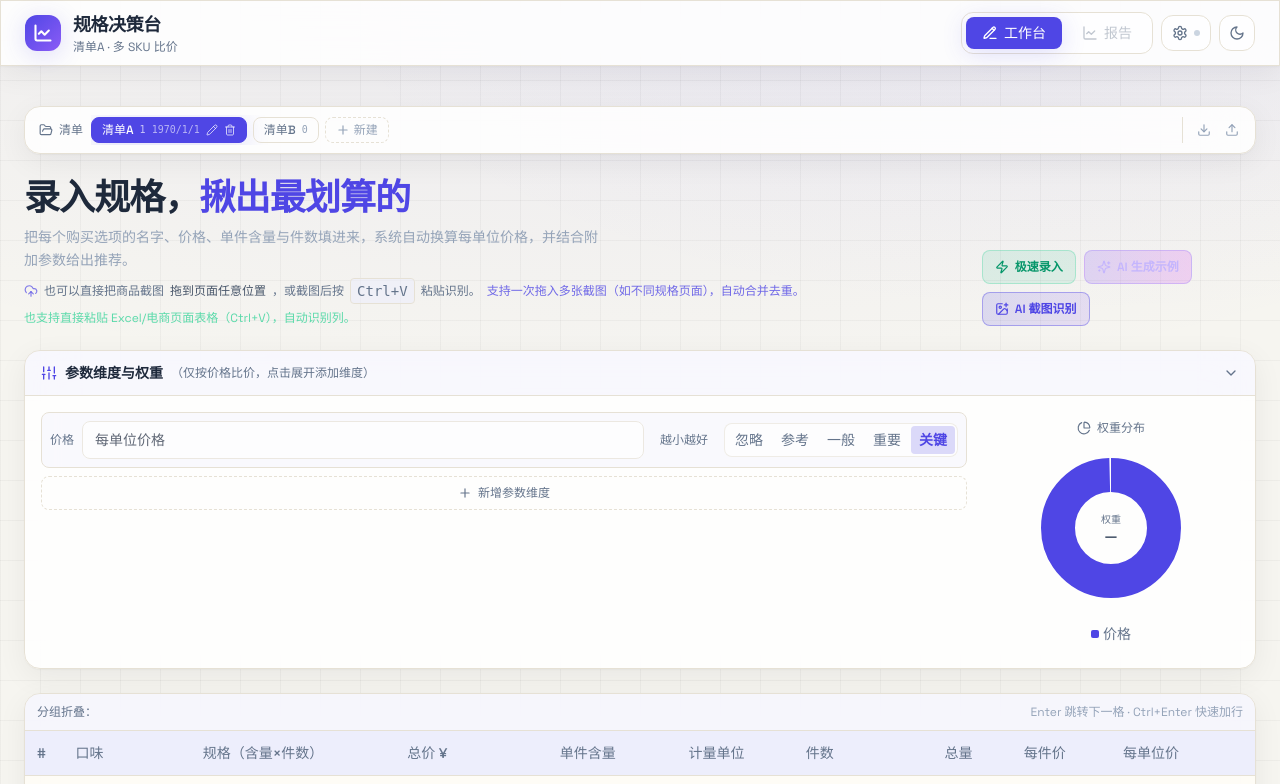
Test: App 撤销 / 重做历史（F4） › 删除清单也能用 Ctrl/Cmd+Z 整份回退找回（与撤销条并存）
Click the button named "删除清单" at (230,130), box [224,124,236,136]
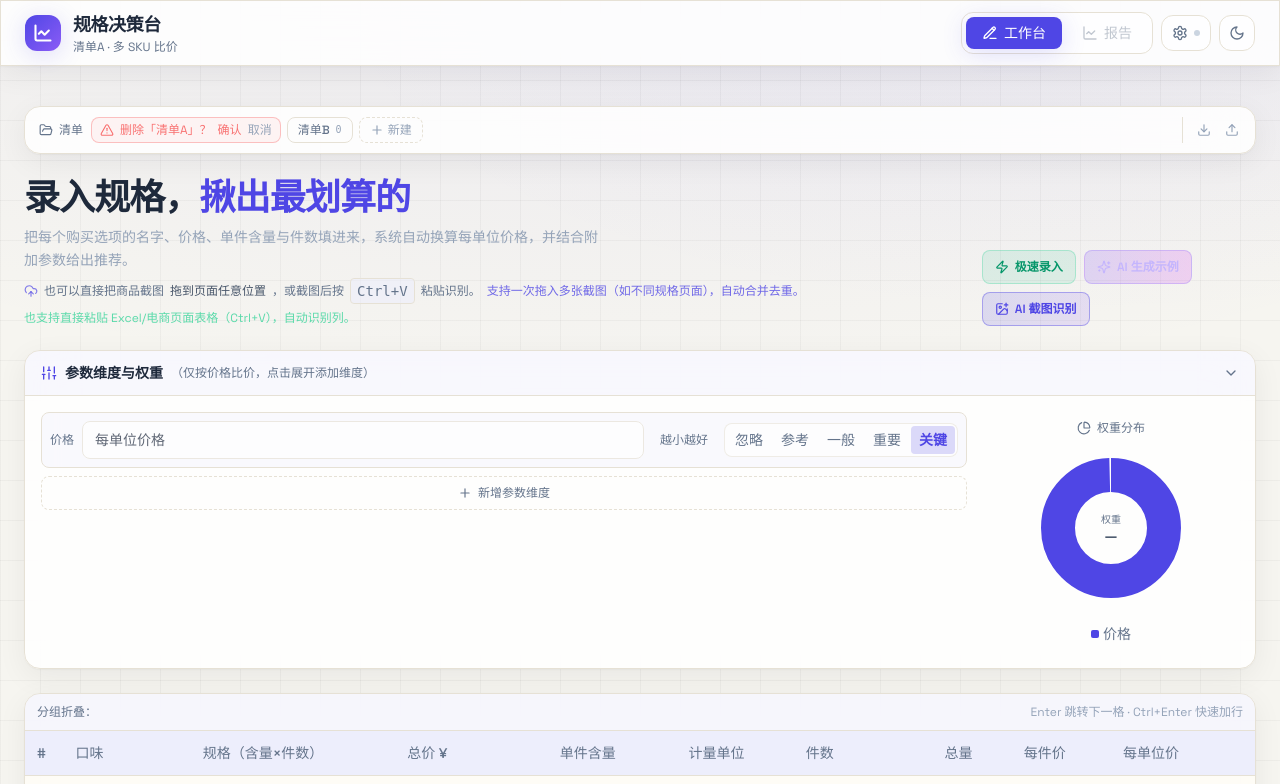
Click the button "确认" at (230,130), box [218,122,242,138]
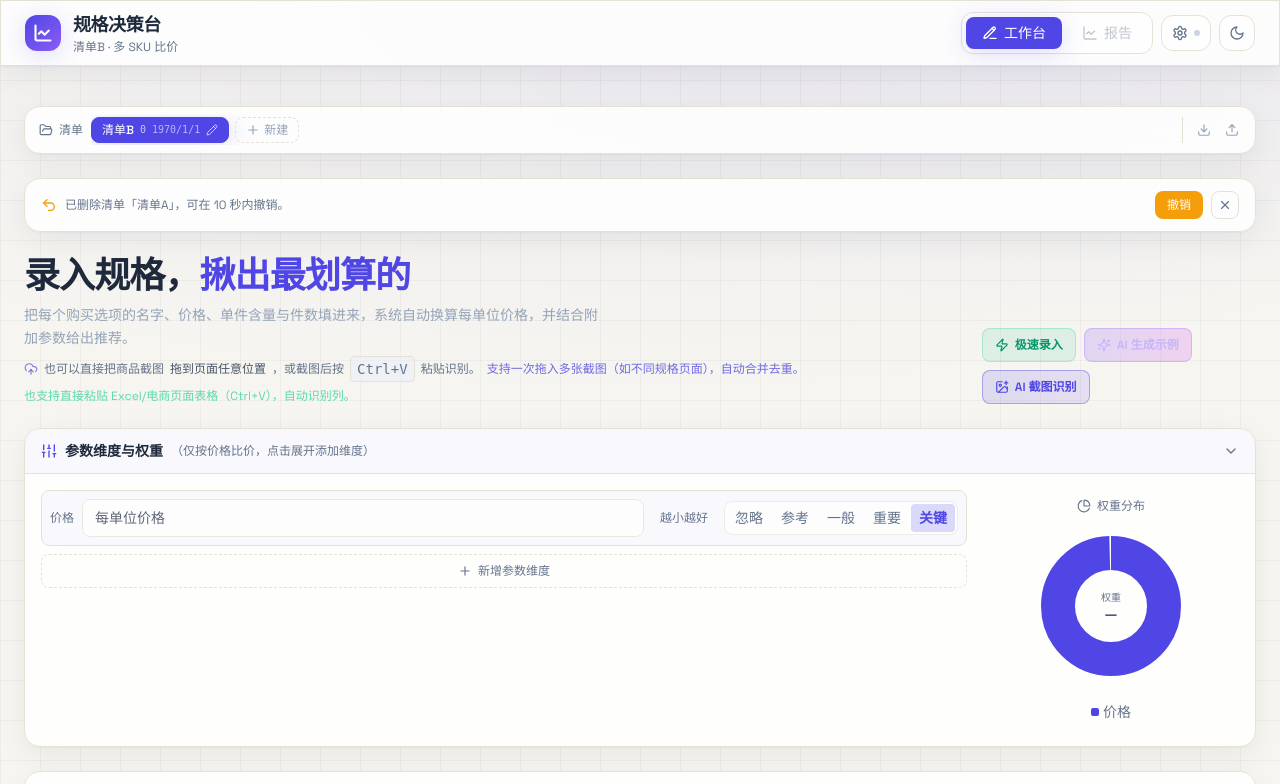
Type keys "{Control>}z{/Control}"
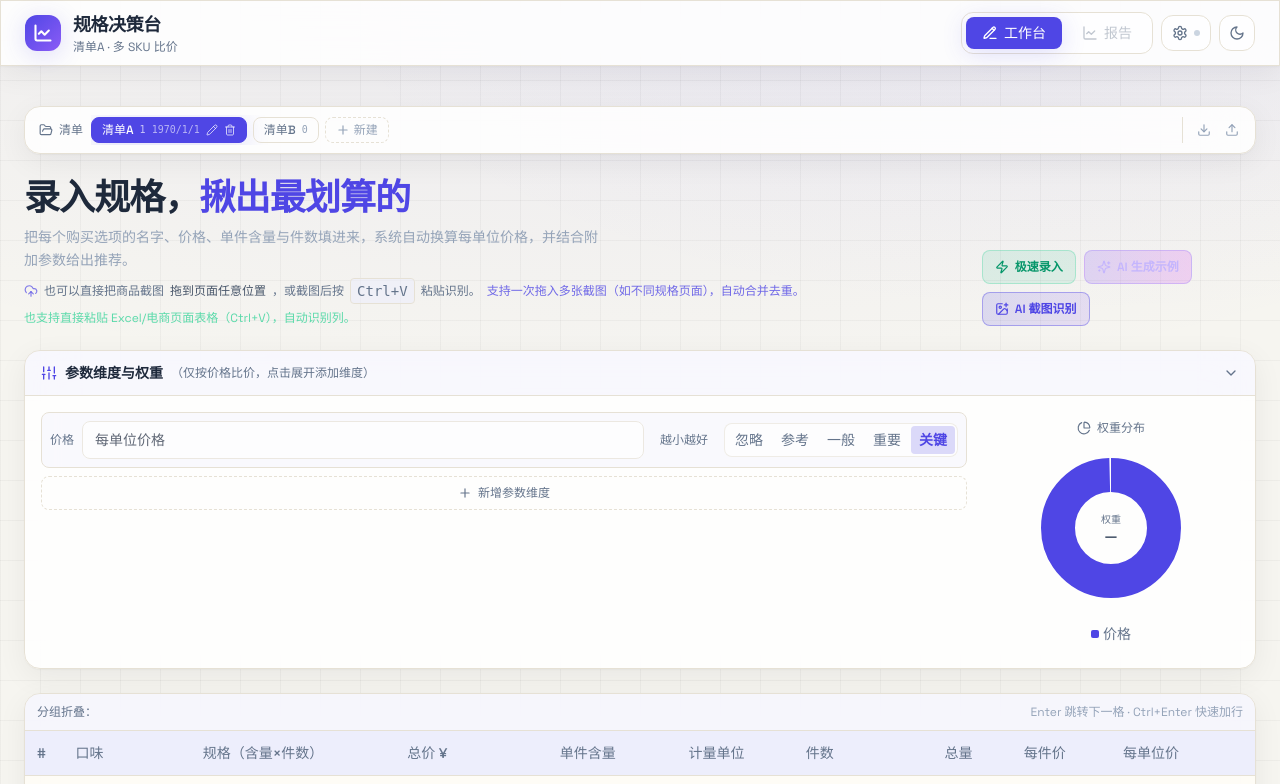
Check: the button "清单A" is shown, box [102,122,134,138]
Check: the message "已删除清单「清单A」，可在 10 秒内撤销。 撤销" is gone
